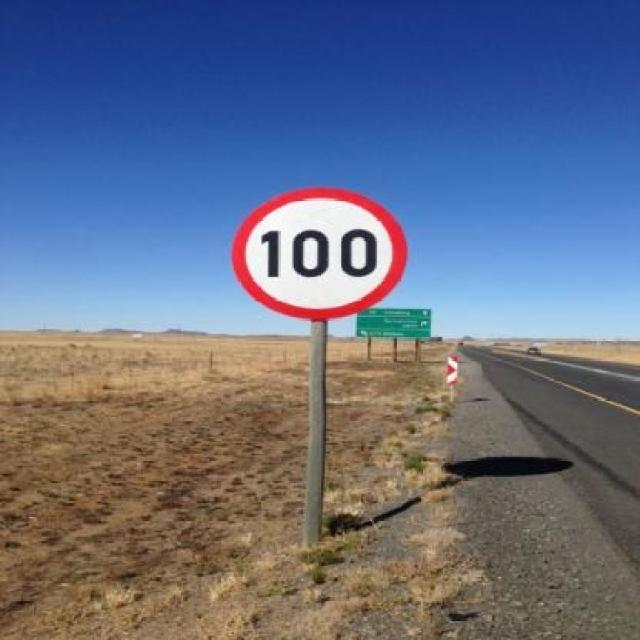forb_speed_over_100: (231, 187, 406, 328)
